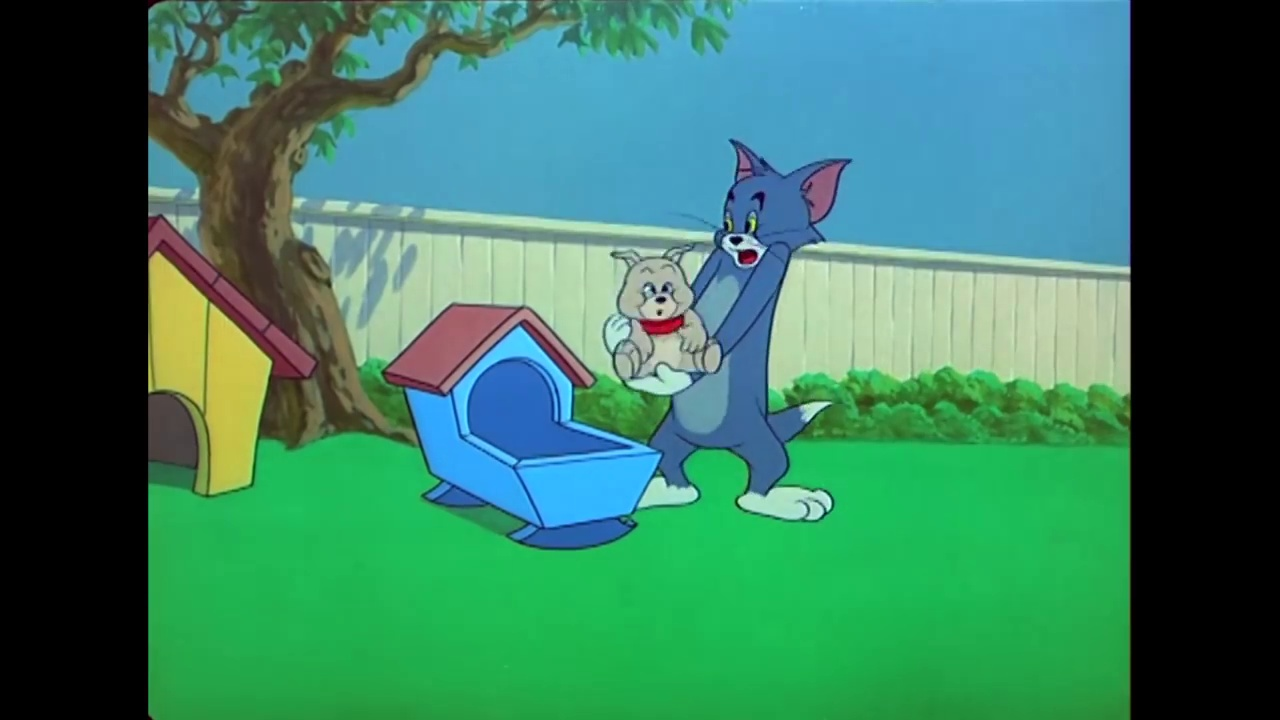tom: (707, 136, 857, 277)
